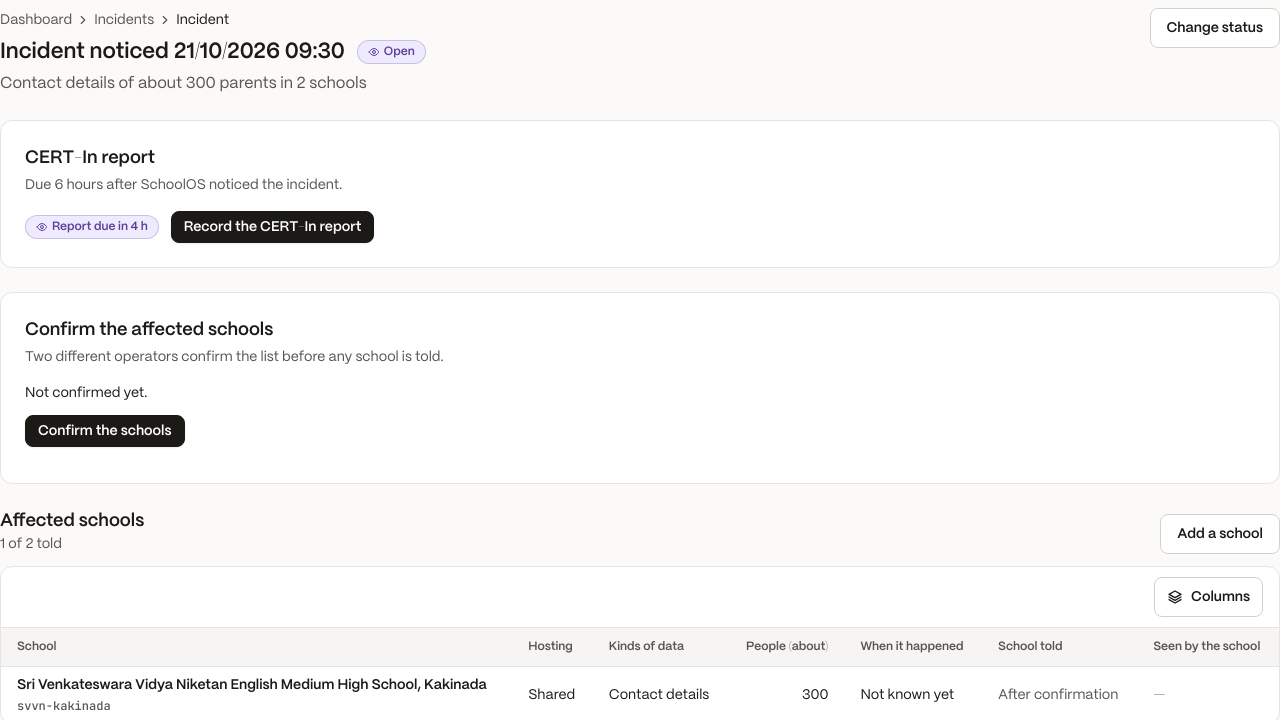
Test case: close gate and reopen propagation (D49) › nothing is shown when the incident can be closed; a refusal is still explained
The image size is (1280, 720).
Click the button "Change status" at (1215, 28), box x1=1150 y1=8 x2=1279 y2=48
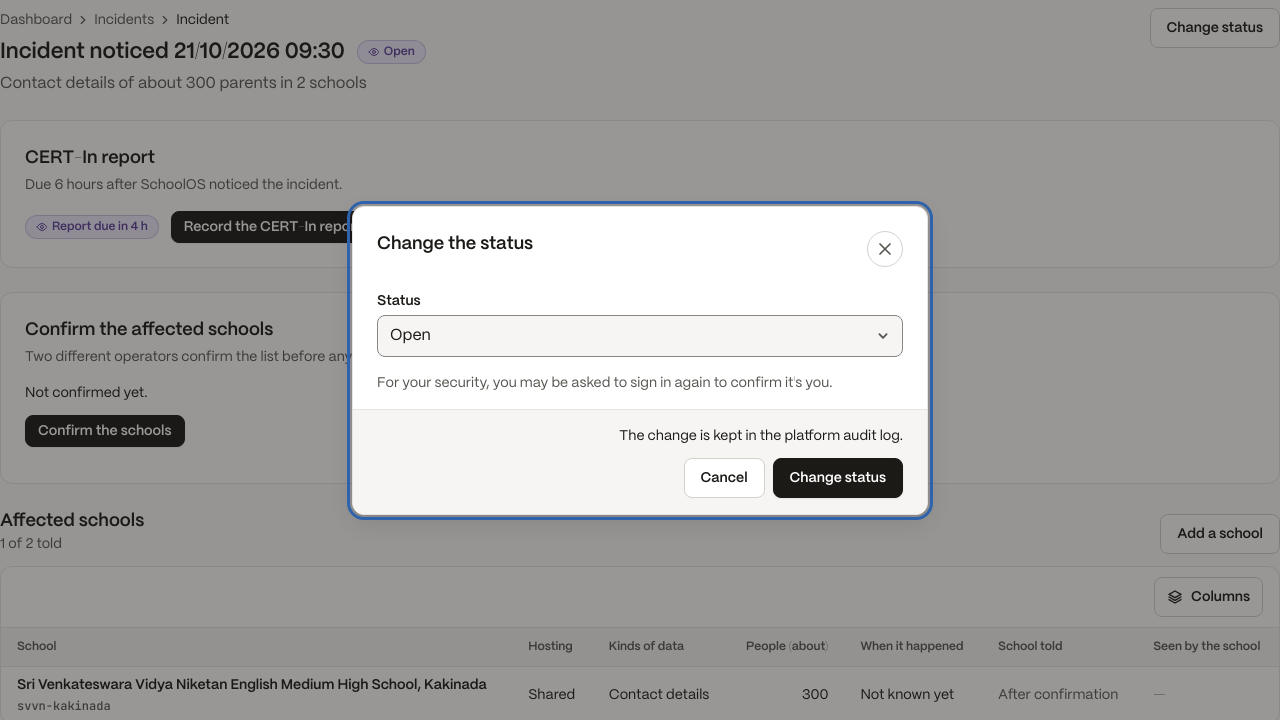
Select "Closed" in the dropdown labelled "Status" at (640, 336), box x1=377 y1=314 x2=903 y2=356
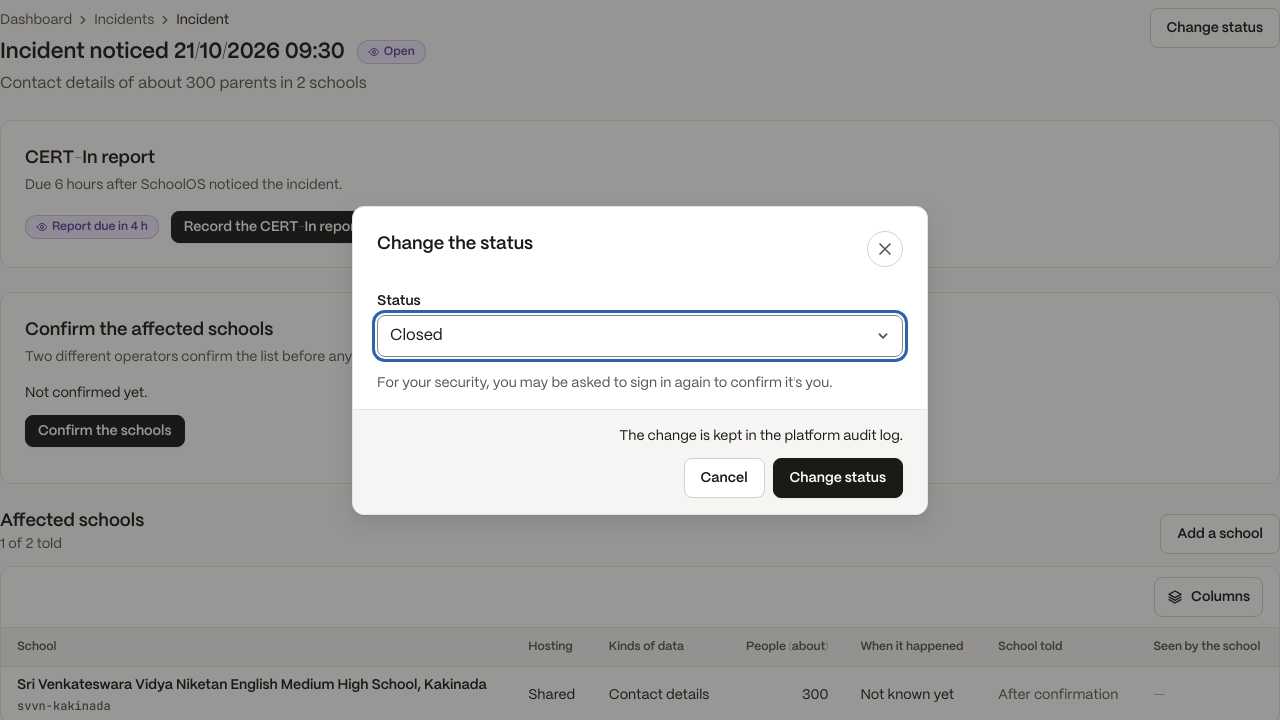
Click the button "Change status" below "Change the status" at (838, 478), box x1=772 y1=458 x2=903 y2=498
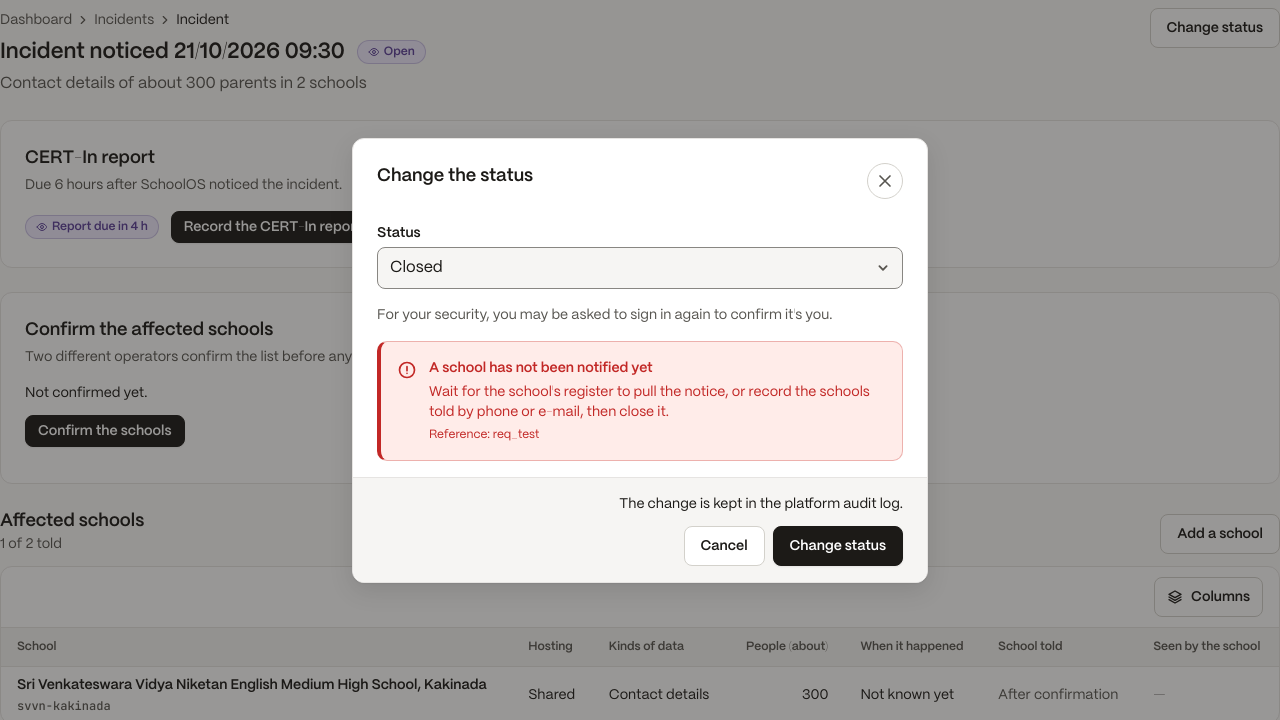
Expected: the text "A school has not been notified yet" is shown, x1=429 y1=360 x2=653 y2=374
